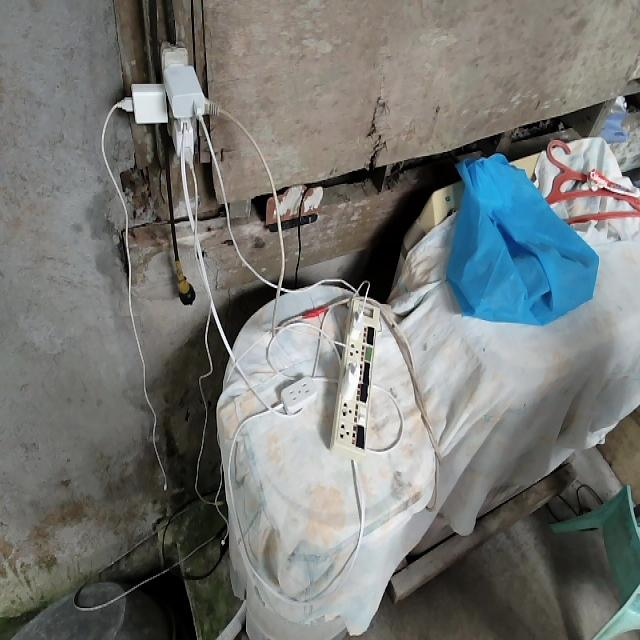-: (115, 40, 218, 161)
